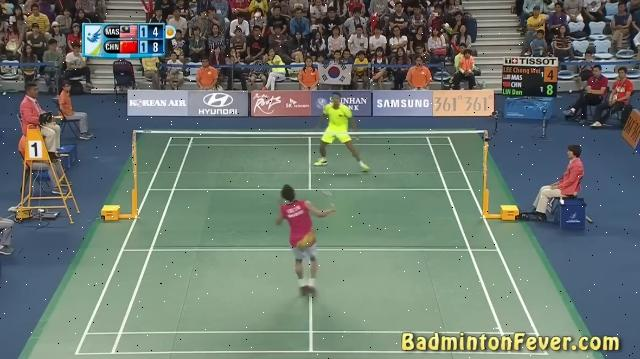Shuttlecock: (252, 8, 266, 20)
